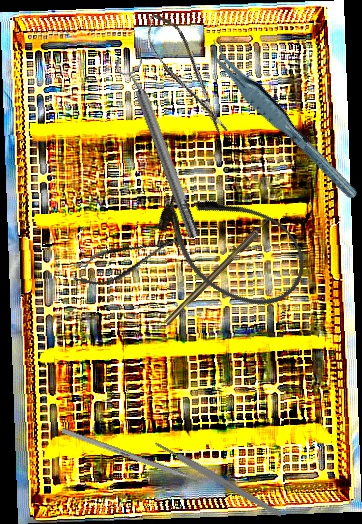Cannula: (140, 167, 322, 325)
Fixation Ring: (112, 50, 208, 243)
Hook Surgical: (163, 216, 274, 326)
Micro Scissor: (138, 6, 235, 143), (67, 224, 186, 296)
Pusher: (61, 427, 220, 491)
Scalpel Handle: (152, 438, 285, 520)
Tissue Forceps: (204, 25, 360, 215)
